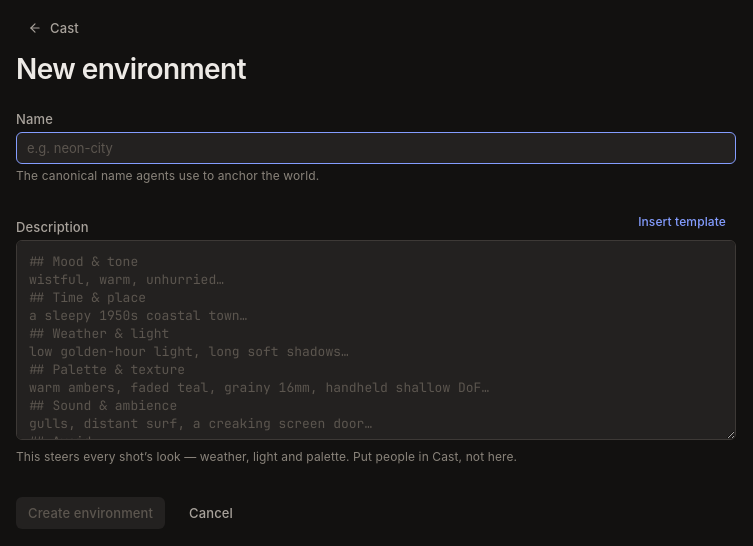
Scenario: Environment — create mode › surfaces a create failure as a persistent role=alert next to the buttons
In the field labelled "Name": coordinates (376, 148) left=16, top=132, right=736, bottom=164, type "Skyline"
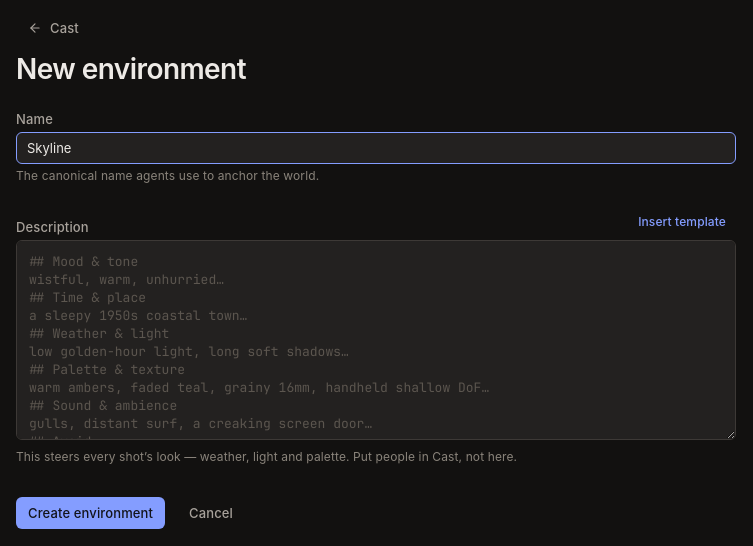
Click the button "Create environment": coordinates (91, 513) left=16, top=497, right=165, bottom=529
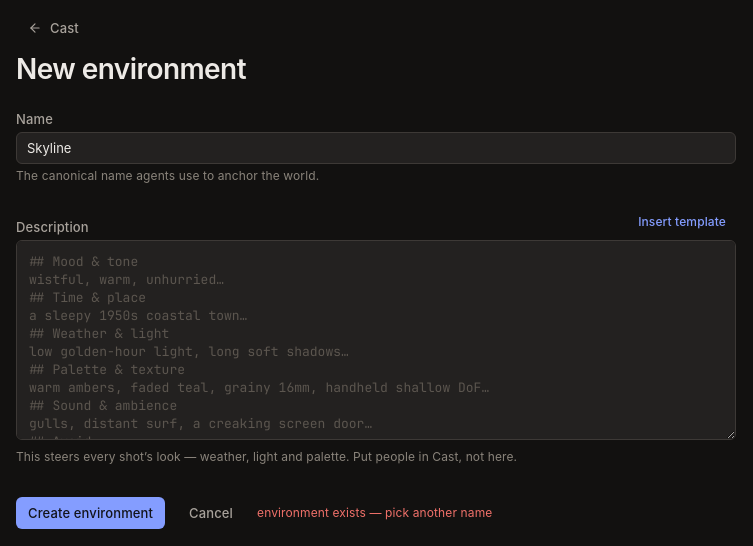
Now the message reads "environment exists — pick another name", box left=257, top=505, right=492, bottom=520
